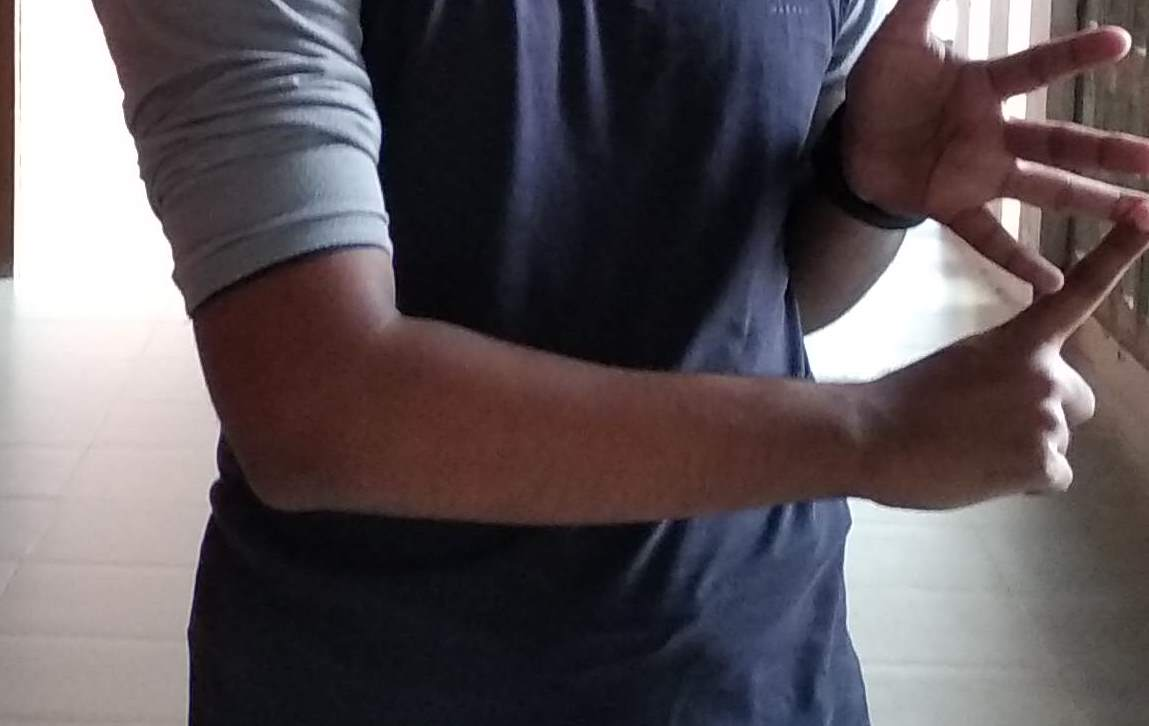e: (892, 13, 1149, 470)
